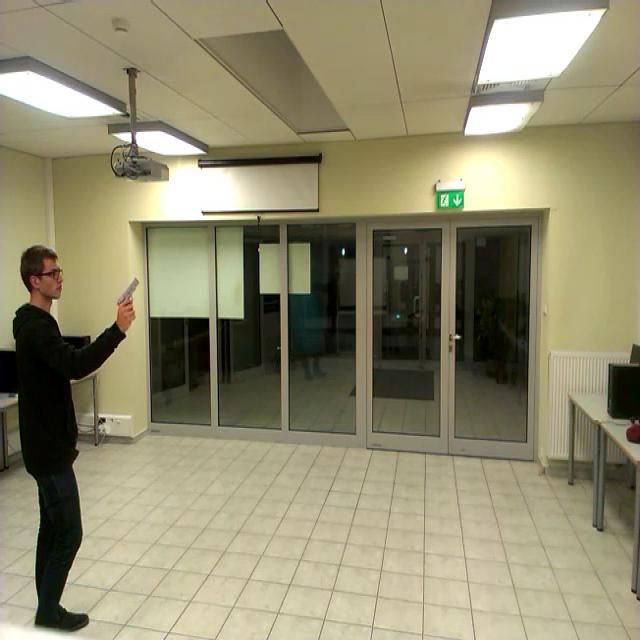Gun: (115, 276, 138, 315)
